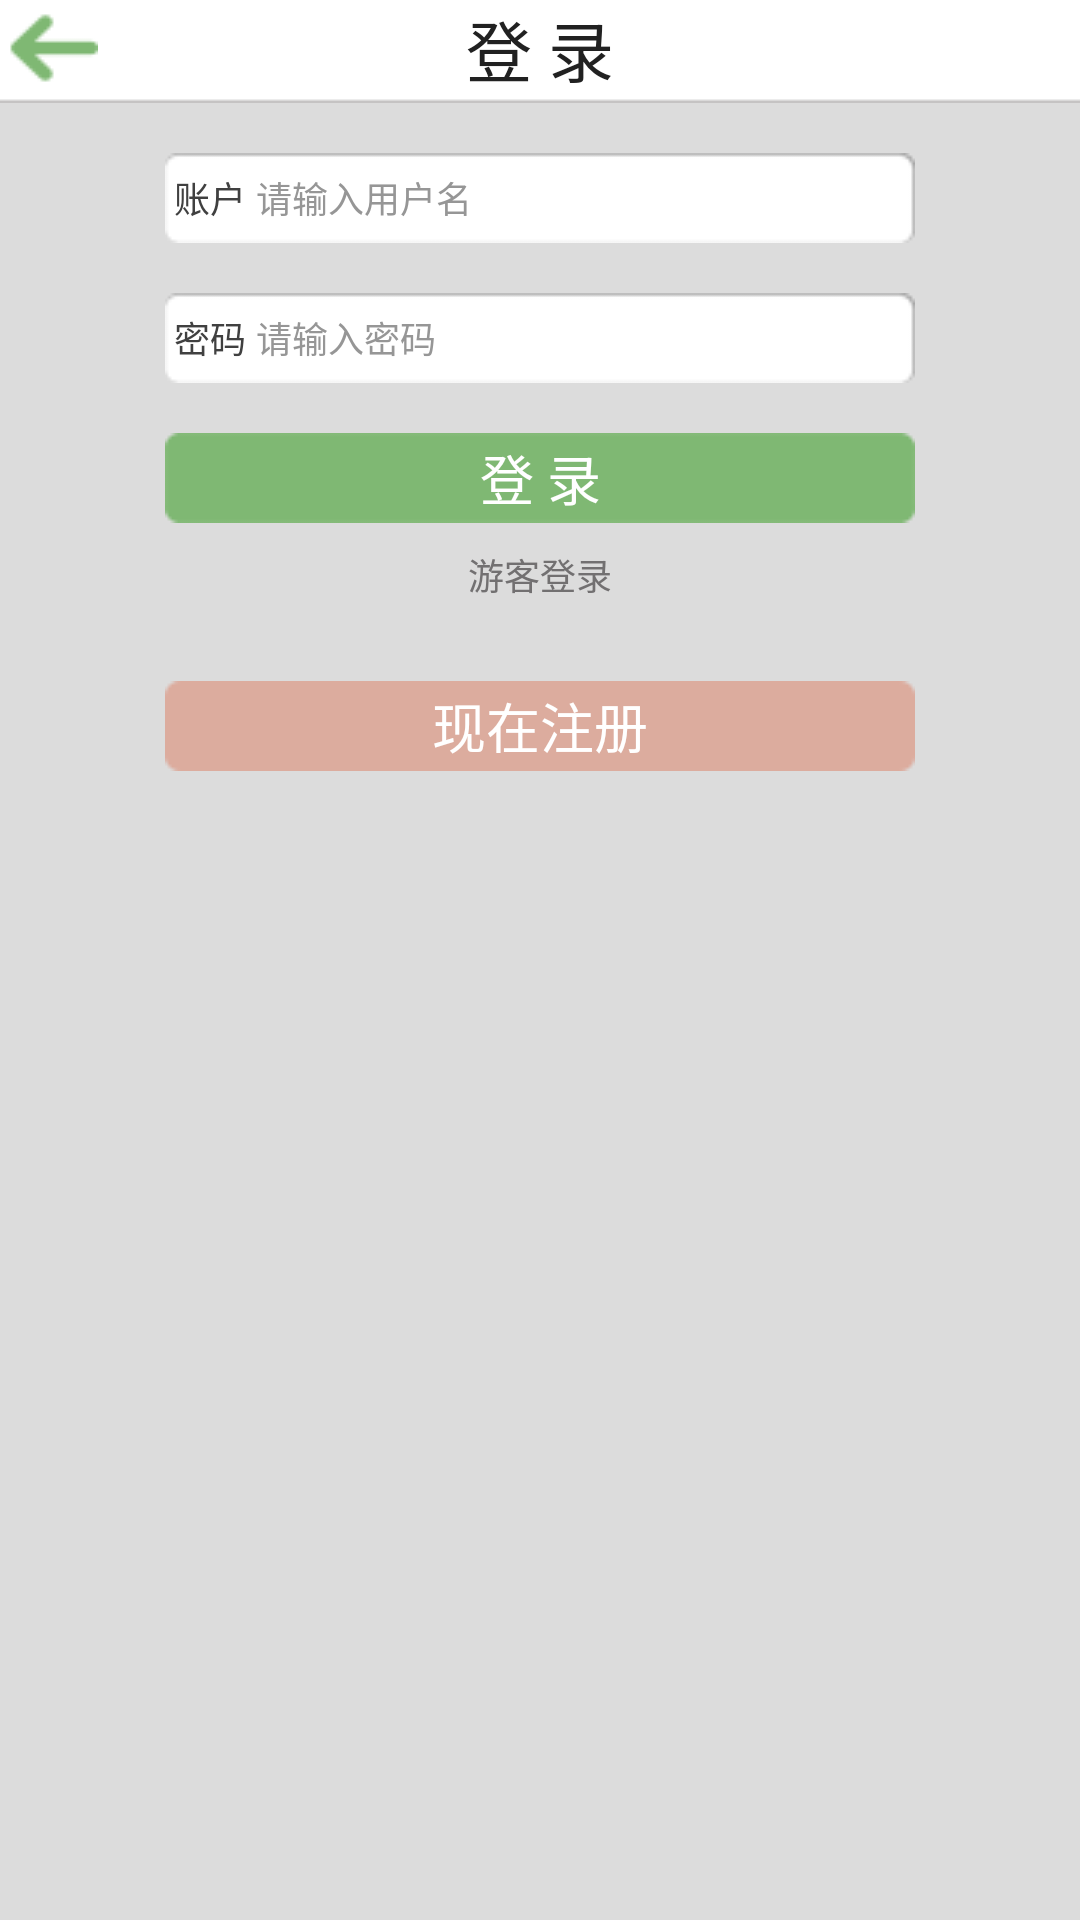

Icon bounding boxes for this 1080w x 1920h phone screenshot, format (x1, y1, x2, y2):
navigationbar backbutton: (10, 14, 98, 82)
